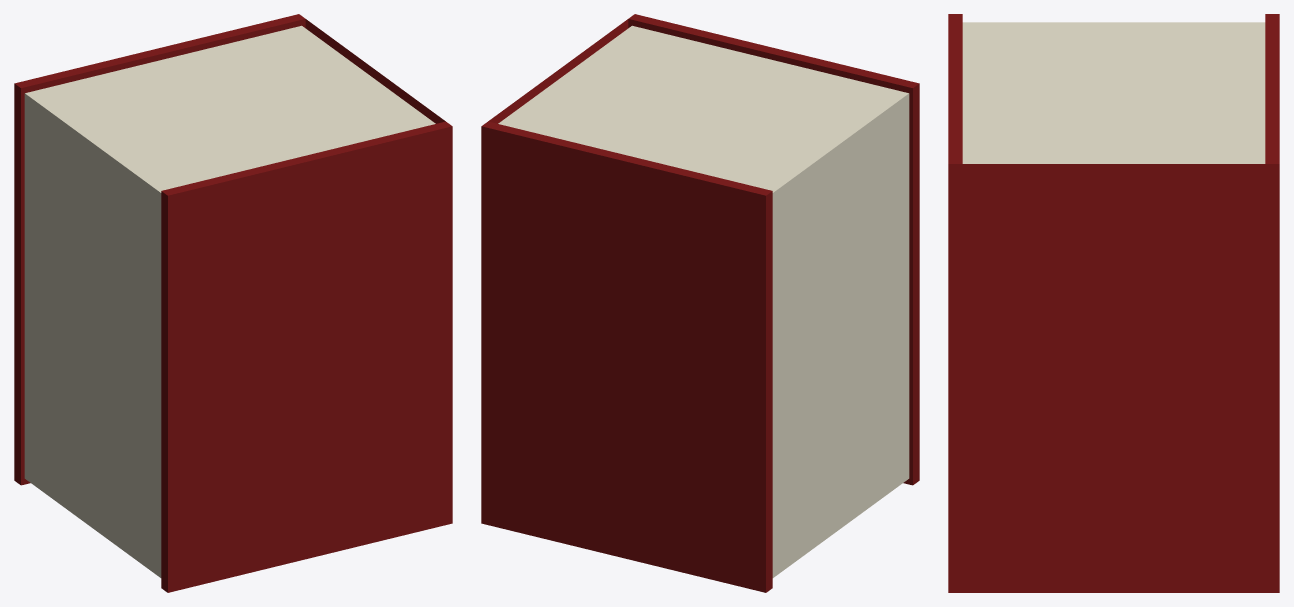
File: book.obj
The picture shows the model from 3 angles, left to right: view 1: azimuth 30°, elevation 25°; view 2: azimuth 150°, elevation 25°; view 3: azimuth 270°, elevation 25°; orthographic projection. The views are drawn at different scales.
Parts seen in each view (by area): view 1: covers, pages, spine; view 2: covers, pages, spine; view 3: spine, pages, covers.
Part boxes in pixels (<box>): covers: <box>14,14,452,592</box>; pages: <box>24,25,435,577</box>; spine: <box>305,19,445,123</box>; covers: <box>481,14,919,592</box>; pages: <box>498,25,909,577</box>; spine: <box>488,19,628,123</box>; spine: <box>948,164,1279,592</box>; pages: <box>962,22,1265,163</box>; covers: <box>948,14,1279,163</box>.
Bounding box in the file's own units: 0.3 × 0.4 × 0.28.
